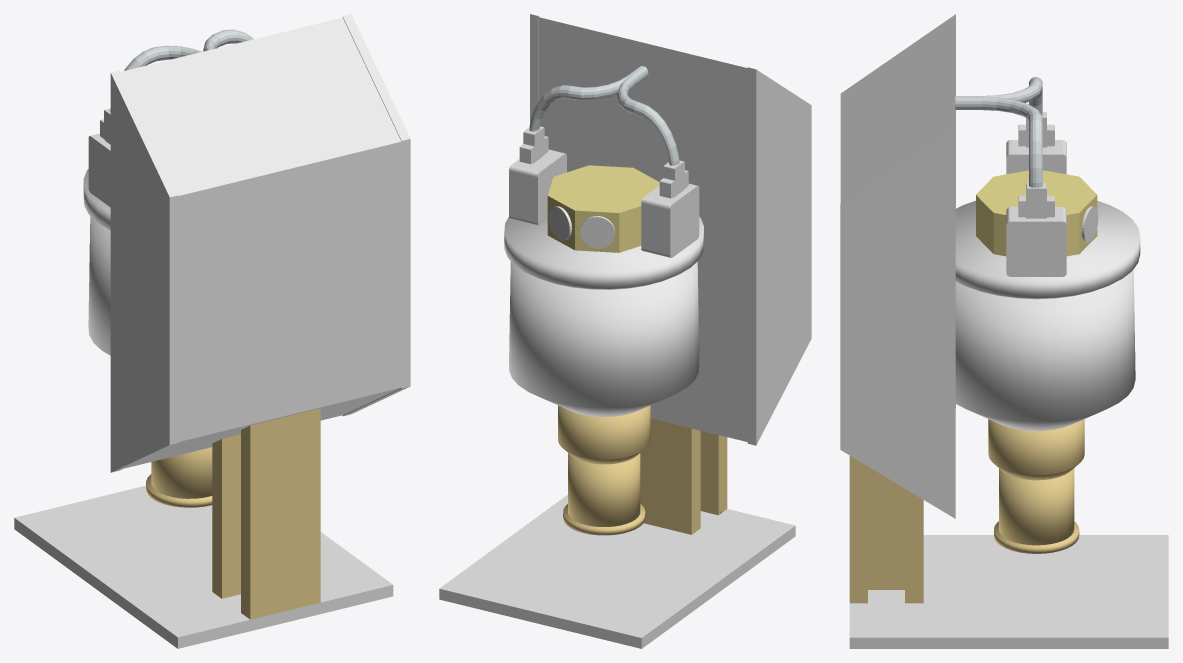
File: GammaRaySpect.fbx
3 renders of one model, left to right at view 1: azimuth 30°, elevation 25°; view 2: azimuth 150°, elevation 25°; view 3: azimuth 270°, elevation 25°, orthographic. The views are drawn at different scales.
Visible parts, largest first — view 1: Cube.002, Cube, Cube.003, Cube.001, Cube.004, Cylinder, Cylinder.002, Cube.006, Cube.008, Cube.005; view 2: Cube.002, Cylinder, Cube, Cube.003, Cylinder.002, Cube.001, Cylinder.001, Cube.006, Cube.007, Cube.008, Cube.005, Cylinder.003 (+4 smaller); view 3: Cube.004, Cylinder, Cube, Cube.002, Cylinder.002, Cube.001, Cylinder.001, Cube.007, Cube.005, Cube.006, Cube.009, Cube.003 (+3 smaller).
Part boxes in pixels (x1,y1,x2,y2): Cube.002: (120, 17, 401, 468); Cube: (14, 485, 393, 648); Cube.003: (110, 70, 178, 472); Cube.001: (212, 408, 320, 619); Cube.004: (342, 14, 410, 416); Cylinder: (83, 169, 110, 355); Cylinder.002: (146, 447, 212, 507); Cube.006: (88, 133, 110, 207); Cube.008: (110, 45, 201, 111); Cube.005: (203, 29, 253, 51); Cube.002: (538, 17, 747, 441); Cylinder: (504, 217, 703, 416); Cube: (439, 494, 795, 648); Cube.003: (747, 67, 811, 445); Cylinder.002: (558, 405, 650, 535); Cube.001: (640, 418, 727, 534); Cylinder.001: (547, 165, 659, 252); Cube.006: (641, 183, 699, 257); Cube.007: (509, 149, 566, 225); Cube.008: (617, 66, 679, 165); Cube.005: (529, 66, 642, 131); Cylinder.003: (580, 216, 615, 248); Cube.004: (840, 124, 955, 518); Cylinder: (955, 200, 1140, 430); Cube: (849, 535, 1168, 648); Cube.002: (840, 20, 955, 203); Cylinder.002: (988, 419, 1084, 553); Cube.001: (849, 456, 923, 603); Cylinder.001: (976, 170, 1097, 256); Cube.007: (1006, 207, 1066, 276); Cube.005: (955, 97, 1042, 187); Cube.006: (1006, 140, 1066, 174); Cube.009: (1018, 183, 1054, 218); Cube.003: (840, 14, 955, 408).
Bounding box in the file's own units: 274 × 586 × 331.
Materials: 5 (4 with a texture image).
